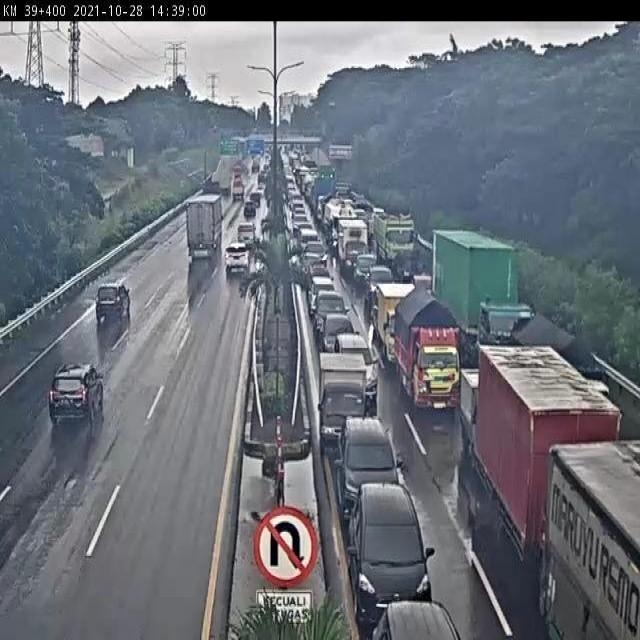big truck: (477, 345, 621, 620), (431, 226, 534, 386), (185, 192, 223, 260)
car: (347, 481, 438, 624), (337, 419, 406, 528), (363, 574, 459, 640), (316, 353, 373, 460), (48, 361, 104, 427), (373, 205, 418, 276), (322, 312, 359, 368), (311, 292, 350, 345), (95, 281, 132, 324), (366, 266, 395, 314), (308, 276, 338, 319), (224, 243, 251, 272), (304, 242, 328, 274), (355, 255, 377, 288), (237, 224, 256, 249), (242, 203, 256, 221)
small truck: (506, 312, 603, 456), (394, 281, 464, 415), (376, 286, 422, 370), (337, 219, 370, 277), (199, 178, 219, 210)
